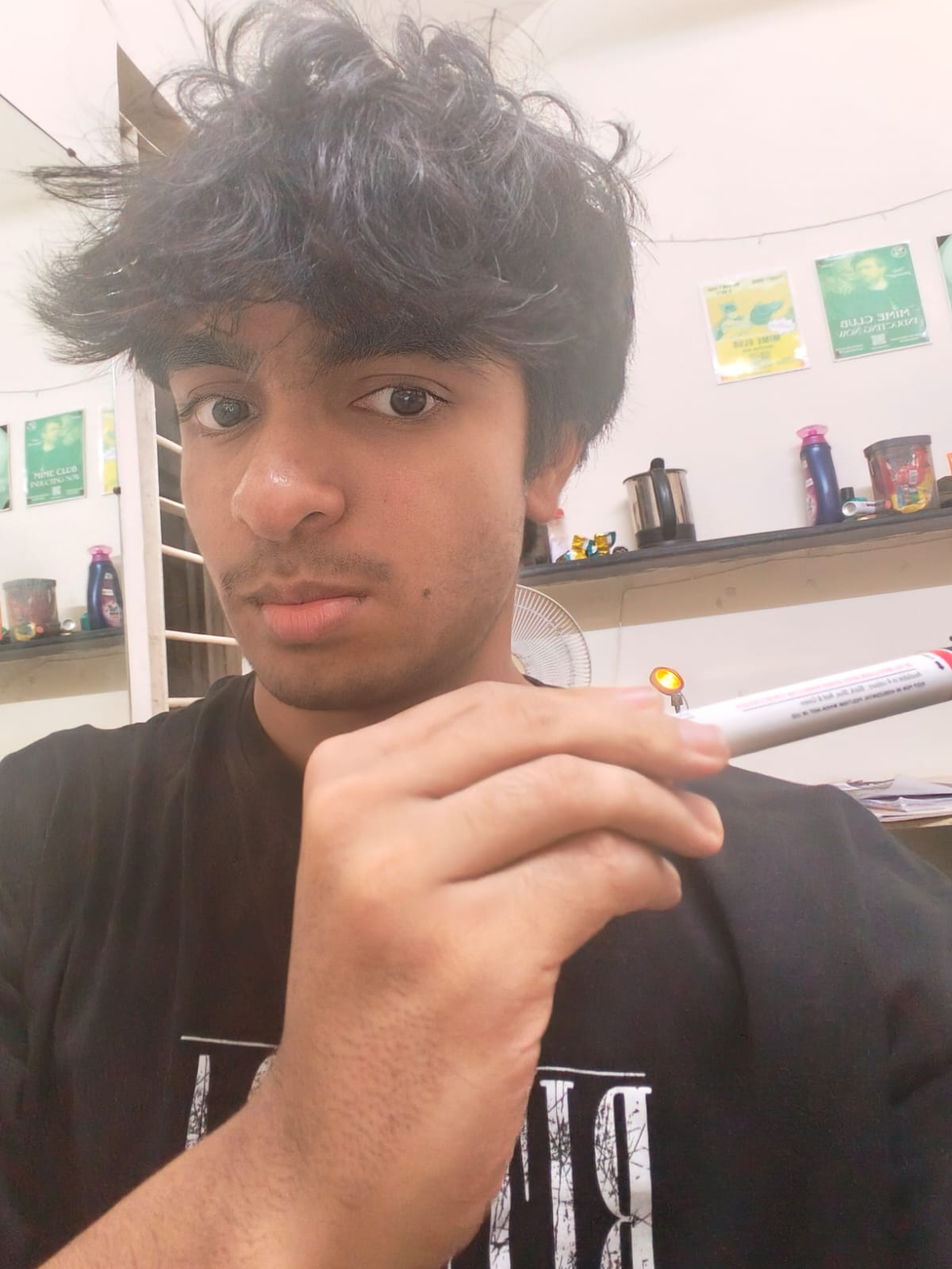case: (627, 602, 952, 793)
